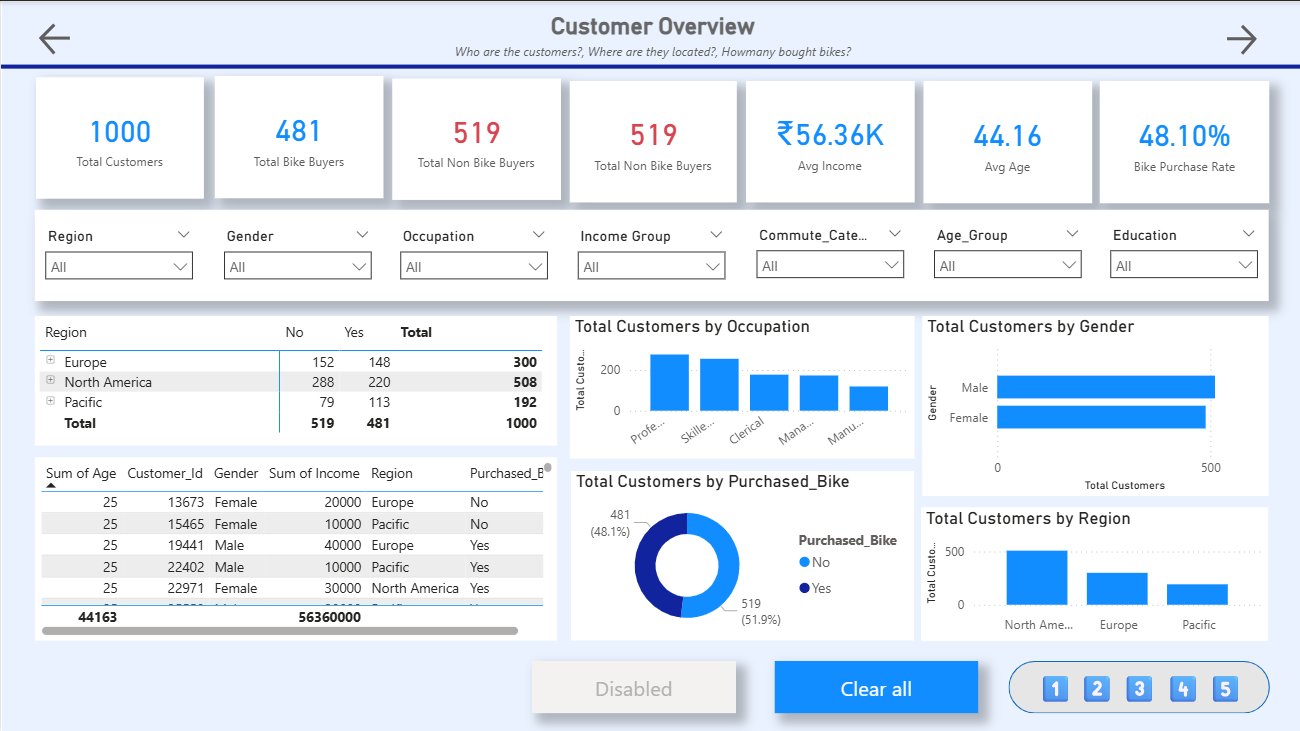

What the dashboard file says about the page in this screenshot:
{"tool":"powerbi","page":{"name":"Customer Overview","canvas":[1280,720],"ordinal":0},"visuals":[{"type":"card","fields":{"Values":["Fact_Bike_Sales.Total Customers"]},"box":[34.7,74.4,164.6,118.8],"z":0},{"type":"card","fields":{"Values":["Fact_Bike_Sales.Total Bike Buyers"]},"box":[209.5,74.2,165.6,120.2],"z":1000},{"type":"card","fields":{"Values":["Fact_Bike_Sales.Total Non Bike Buyers"]},"box":[383.5,76.2,165.3,119],"z":2000},{"type":"textbox","title":"Customer Overview","box":[0,0,1280,76.7],"z":3000},{"type":"card","fields":{"Values":["Fact_Bike_Sales.Total Non Bike Buyers"]},"box":[558,78.8,164,119],"z":4000},{"type":"card","fields":{"Values":["Fact_Bike_Sales.Avg Income"]},"box":[731.2,78.8,165.3,119],"z":5000},{"type":"card","fields":{"Values":["Fact_Bike_Sales.Avg Age"]},"box":[905.8,78.8,165.3,120.3],"z":6000},{"type":"card","fields":{"Values":["Fact_Bike_Sales.Bike Purchase Rate"]},"box":[1079,78.8,166.6,120.3],"z":7000},{"type":"shape","box":[33.1,205,1211.2,89.9],"z":8000},{"type":"slicer","fields":{"Values":["Dim_Cus.Region"]},"box":[33.1,216.9,165.3,67.4],"z":9000},{"type":"slicer","fields":{"Values":["Dim_Cus.Gender"]},"box":[208.9,216.9,165.3,67.4],"z":10000},{"type":"slicer","fields":{"Values":["Dim_Cus.Occupation"]},"box":[382.1,216.9,165.3,67.4],"z":11000},{"type":"slicer","fields":{"Values":["Dim_Cus.Income Group"]},"box":[555.4,216.9,165.3,67.4],"z":12000},{"type":"slicer","fields":{"Values":["Dim_Cus.Commute_Category"]},"box":[731.2,215.5,165.3,67.4],"z":13000},{"type":"slicer","fields":{"Values":["Dim_Cus.Age_Group"]},"box":[905.8,215.5,165.3,67.4],"z":14000},{"type":"slicer","fields":{"Values":["Dim_Cus.Education"]},"box":[1079,215.5,165.3,67.4],"z":15000},{"type":"clusteredColumnChart","fields":{"Category":["Dim_Cus.Region"],"Y":["Fact_Bike_Sales.Total Customers"]},"box":[903.1,497.2,341.2,130.9],"z":16000},{"type":"clusteredBarChart","fields":{"Category":["Dim_Cus.Gender"],"Y":["Fact_Bike_Sales.Total Customers"]},"box":[904.5,309.4,339.8,177.2],"z":17000},{"type":"columnChart","fields":{"Category":["Dim_Cus.Occupation"],"Y":["Fact_Bike_Sales.Total Customers"]},"box":[558,309.4,338.5,140.2],"z":18000},{"type":"donutChart","fields":{"Category":["Fact_Bike_Sales.Purchased_Bike"],"Y":["Fact_Bike_Sales.Total Customers"]},"box":[559.3,461.5,337.2,166.6],"z":19000},{"type":"pivotTable","fields":{"Rows":["Dim_Cus.Region","Dim_Cus.Occupation"],"Columns":["Fact_Bike_Sales.Purchased_Bike"],"Values":["CountNonNull(Fact_Bike_Sales.Customer_Id)"]},"box":[33.1,309.4,513.1,126.9],"z":20000},{"type":"tableEx","fields":{"Values":["Sum(Fact_Bike_Sales.Age)","Fact_Bike_Sales.Customer_Id","Dim_Cus.Gender","Sum(Fact_Bike_Sales.Income)","Dim_Cus.Region","Fact_Bike_Sales.Purchased_Bike"]},"box":[33.1,448.3,513.1,179.8],"z":21000},{"type":"shape","box":[989.1,647.9,256.5,51.6],"z":22000},{"type":"actionButton","box":[1055.2,654.5,41,39.7],"z":23000},{"type":"actionButton","box":[1097.5,654.5,41,39.7],"z":24000},{"type":"actionButton","box":[1139.8,654.5,41,39.7],"z":25000},{"type":"actionButton","box":[1182.1,654.5,41,39.7],"z":26000},{"type":"actionButton","box":[1014.2,654.5,41,39.7],"z":27000},{"type":"actionButton","box":[759,647.9,199.7,51.6],"z":28000},{"type":"actionButton","box":[521,647.9,199.7,51.6],"z":29000},{"type":"actionButton","box":[1197.6,18.4,46.6,39.3],"z":30000},{"type":"actionButton","box":[33.1,17.2,45.4,40.5],"z":31000}]}

Visuals, with their boxes in screenshot pixels (x1, y1, x2, y2), scaled from the page's 1280x720 canvas onto the 1300x731 screenshot:
card - Fact_Bike_Sales.Total Customers: (35, 76, 202, 196)
card - Fact_Bike_Sales.Total Bike Buyers: (213, 75, 381, 197)
card - Fact_Bike_Sales.Total Non Bike Buyers: (389, 77, 557, 198)
"Customer Overview" textbox: (0, 0, 1299, 78)
card - Fact_Bike_Sales.Total Non Bike Buyers: (567, 80, 733, 201)
card - Fact_Bike_Sales.Avg Income: (743, 80, 911, 201)
card - Fact_Bike_Sales.Avg Age: (920, 80, 1088, 202)
card - Fact_Bike_Sales.Bike Purchase Rate: (1096, 80, 1265, 202)
shape: (34, 208, 1264, 299)
slicer - Dim_Cus.Region: (34, 220, 202, 289)
slicer - Dim_Cus.Gender: (212, 220, 380, 289)
slicer - Dim_Cus.Occupation: (388, 220, 556, 289)
slicer - Dim_Cus.Income Group: (564, 220, 732, 289)
slicer - Dim_Cus.Commute_Category: (743, 219, 911, 287)
slicer - Dim_Cus.Age_Group: (920, 219, 1088, 287)
slicer - Dim_Cus.Education: (1096, 219, 1264, 287)
clusteredColumnChart - Dim_Cus.Region x Fact_Bike_Sales.Total Customers: (917, 505, 1264, 638)
clusteredBarChart - Dim_Cus.Gender x Fact_Bike_Sales.Total Customers: (919, 314, 1264, 494)
columnChart - Dim_Cus.Occupation x Fact_Bike_Sales.Total Customers: (567, 314, 911, 456)
donutChart - Fact_Bike_Sales.Purchased_Bike x Fact_Bike_Sales.Total Customers: (568, 469, 911, 638)
pivotTable - Dim_Cus.Region x Dim_Cus.Occupation: (34, 314, 555, 443)
tableEx - Sum(Fact_Bike_Sales.Age) x Fact_Bike_Sales.Customer_Id: (34, 455, 555, 638)
shape: (1005, 658, 1265, 710)
actionButton: (1072, 664, 1113, 705)
actionButton: (1115, 664, 1156, 705)
actionButton: (1158, 664, 1199, 705)
actionButton: (1201, 664, 1242, 705)
actionButton: (1030, 664, 1072, 705)
actionButton: (771, 658, 974, 710)
actionButton: (529, 658, 732, 710)
actionButton: (1216, 19, 1264, 59)
actionButton: (34, 17, 80, 59)
